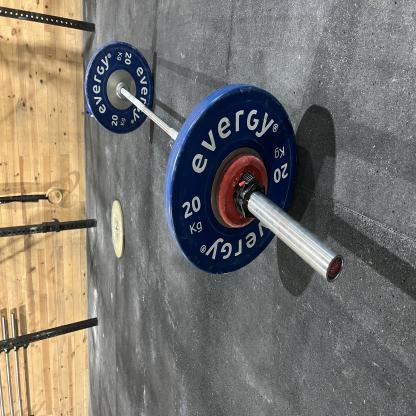barbell: (107, 218, 252, 401), (212, 113, 282, 207)
